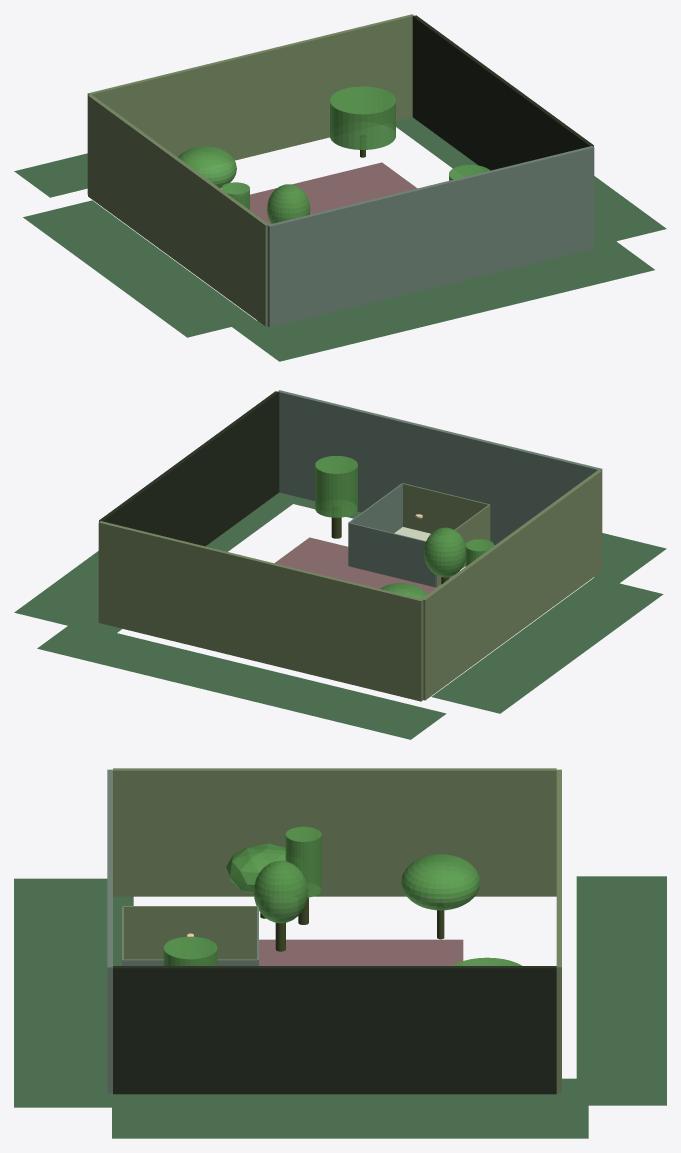
The model's file is ultra_varied_259c9895-f8cc-46ad-8b55-0688d3f22061.obj.
3 views of the same model, one above another, from view 1: azimuth 30°, elevation 25°; view 2: azimuth 150°, elevation 25°; view 3: azimuth 270°, elevation 25° (orthographic). The views are drawn at different scales.
Parts seen in each view (by area): view 1: ExteriorWall_South, ExteriorWall_North, ExteriorWall_West, Grass_Front, ExteriorWall_East, Grass_Left, Grass_Right, Foundation, Crown_1, Grass_Back, Crown_2, Crown_0; view 2: ExteriorWall_North, ExteriorWall_South, ExteriorWall_West, ExteriorWall_East, Grass_Back, Grass_Left, Grass_Right, NorthWall_Living_Room, Foundation, SouthWall_Living_Room, Crown_3, Grass_Front (+3 smaller); view 3: ExteriorWall_East, ExteriorWall_West, Grass_Front, Grass_Right, Grass_Back, WestWall_Living_Room, Foundation, Crown_2, Crown_0, ExteriorWall_South, ExteriorWall_North, Crown_5 (+3 smaller).
Part boxes in pixels (left/top/right/bottom): ExteriorWall_South: left=267, top=146, right=594, bottom=327; ExteriorWall_North: left=87, top=14, right=413, bottom=194; ExteriorWall_West: left=88, top=94, right=268, bottom=326; Grass_Front: left=232, top=241, right=654, bottom=361; ExteriorWall_East: left=412, top=15, right=593, bottom=170; Grass_Left: left=23, top=200, right=255, bottom=337; Grass_Right: left=396, top=117, right=666, bottom=246; Foundation: left=250, top=162, right=417, bottom=224; Crown_1: left=330, top=86, right=395, bottom=149; Grass_Back: left=14, top=153, right=87, bottom=197; Crown_2: left=178, top=146, right=236, bottom=188; Crown_0: left=267, top=184, right=310, bottom=223; ExteriorWall_North: left=98, top=521, right=423, bottom=701; ExteriorWall_South: left=278, top=390, right=602, bottom=568; ExteriorWall_West: left=422, top=470, right=601, bottom=700; ExteriorWall_East: left=99, top=391, right=279, bottom=546; Grass_Back: left=37, top=626, right=446, bottom=739; Grass_Left: left=431, top=577, right=663, bottom=713; Grass_Right: left=14, top=493, right=300, bottom=636; NorthWall_Living_Room: left=348, top=522, right=435, bottom=587; Foundation: left=274, top=537, right=453, bottom=594; SouthWall_Living_Room: left=402, top=483, right=489, bottom=533; Crown_3: left=315, top=456, right=357, bottom=517; Grass_Front: left=271, top=492, right=666, bottom=583; ExteriorWall_East: left=113, top=966, right=556, bottom=1094; ExteriorWall_West: left=113, top=768, right=556, bottom=896; Grass_Front: left=14, top=878, right=133, bottom=1107; Grass_Right: left=112, top=1078, right=588, bottom=1138; Grass_Back: left=576, top=876, right=666, bottom=1105; WestWall_Living_Room: left=123, top=906, right=257, bottom=959; Foundation: left=259, top=939, right=463, bottom=965; Crown_2: left=401, top=854, right=480, bottom=910; Crown_0: left=253, top=860, right=307, bottom=923; ExteriorWall_South: left=107, top=769, right=112, bottom=1093; ExteriorWall_North: left=556, top=769, right=561, bottom=1093; Crown_5: left=285, top=826, right=321, bottom=897.
Bounding box in the file's own units: 38.01 × 7.89 × 36.55.
